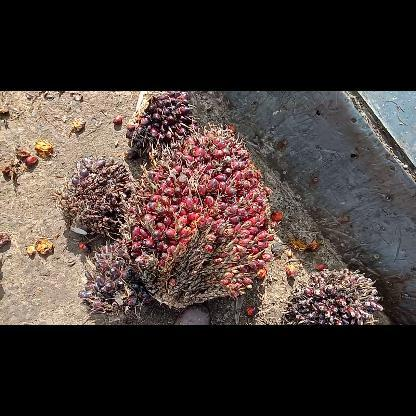TBS abnormal: (76, 240, 148, 322), (60, 158, 127, 240), (128, 90, 196, 156)
TBS masak: (128, 123, 270, 309)
